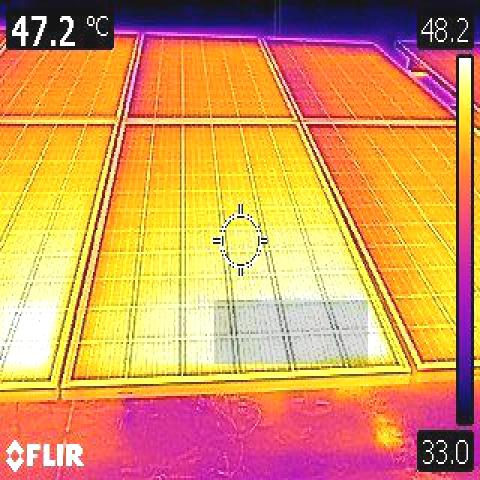fault: (214, 300, 368, 364), (4, 302, 56, 375)
